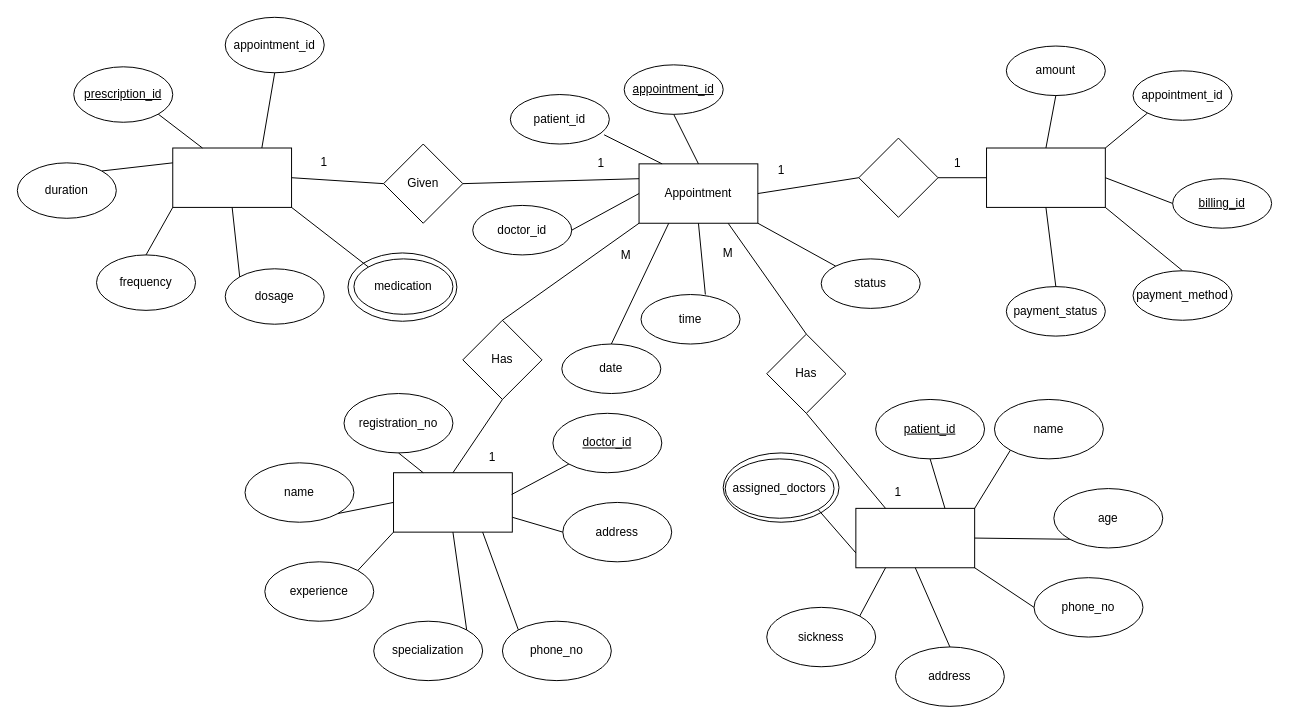
This 1289x724 diagram has some shape labels left out. The shapes that lost their labels are listed below. From the top down, each one's centre as x and y in pixels, then its label:
At point (232, 177): "Prescription".
At point (898, 177): "Records".
At point (1045, 177): "Billing".
At point (452, 502): "Doctor".
At point (915, 537): "Patient".
